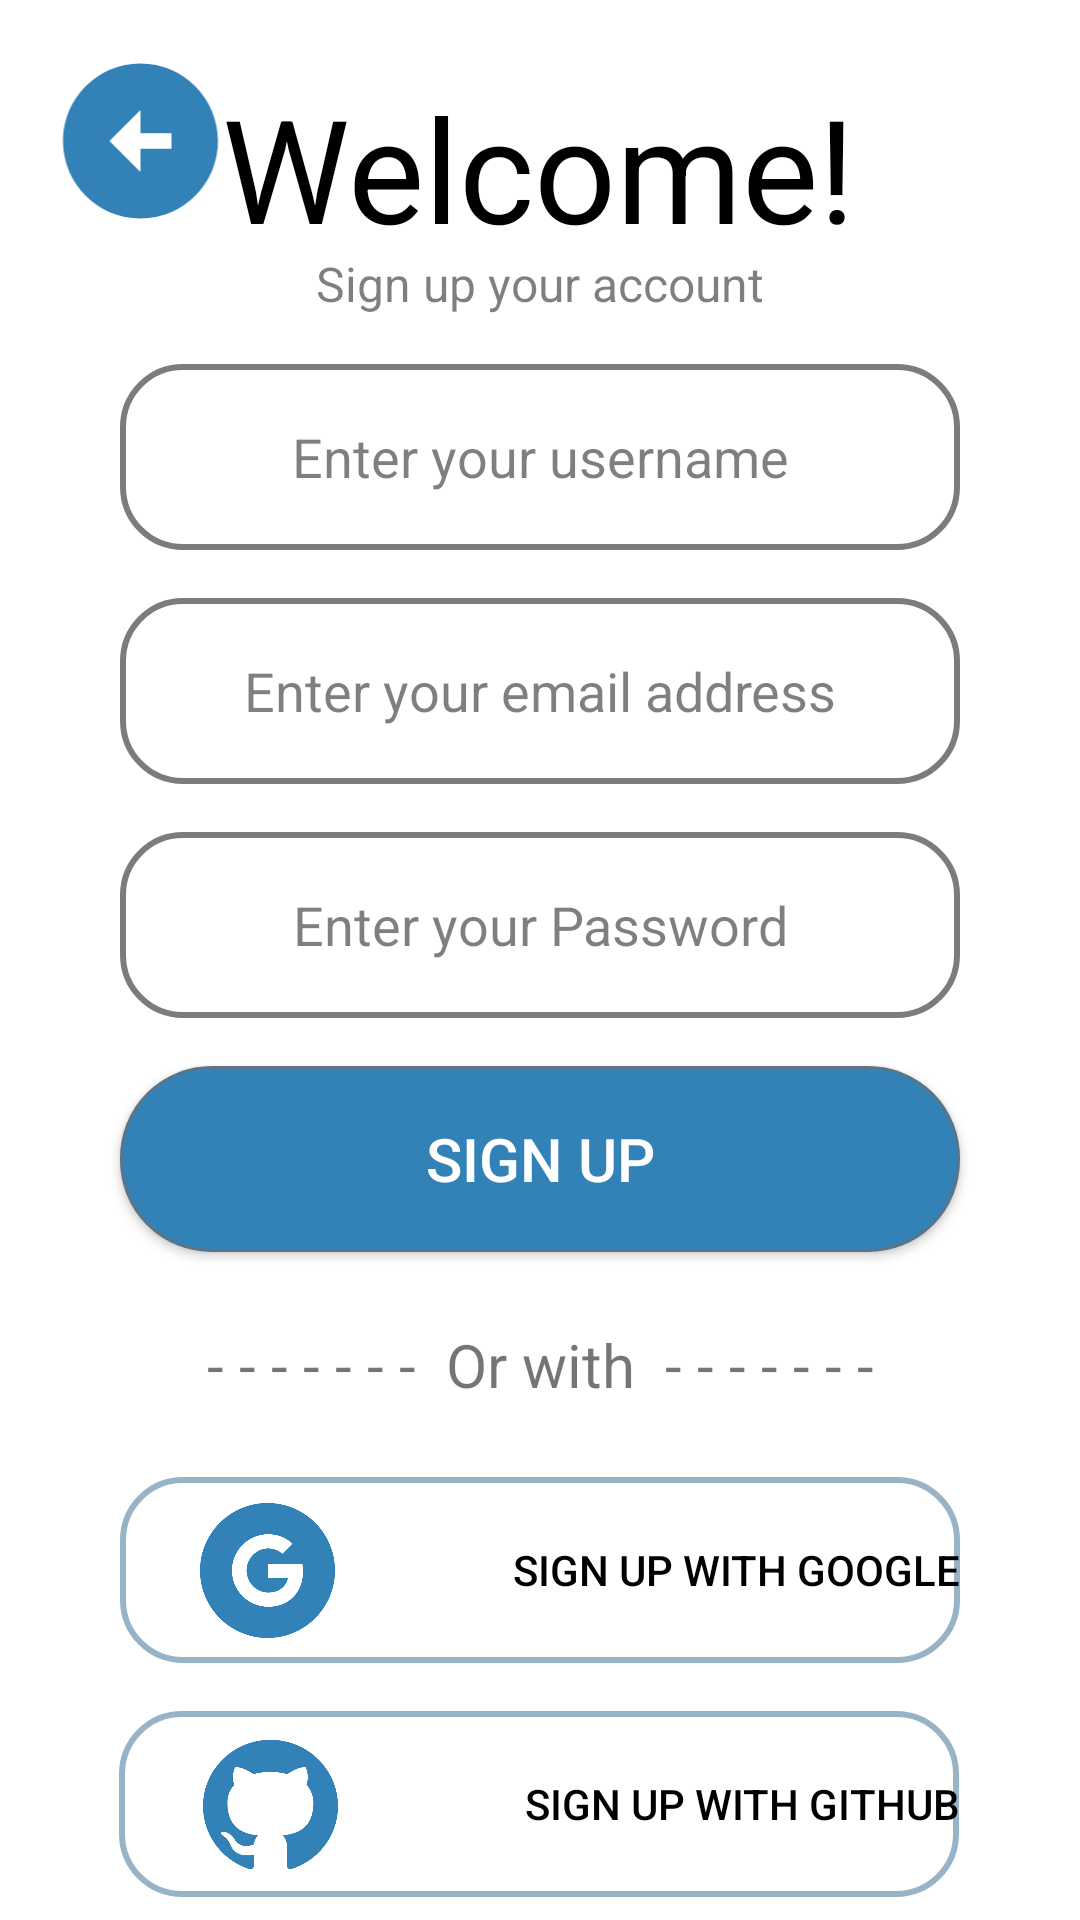

Icons on this 1080*1920 Android screen, each with the point to tap as [x,y]:
arrow circle left: [140,141]
